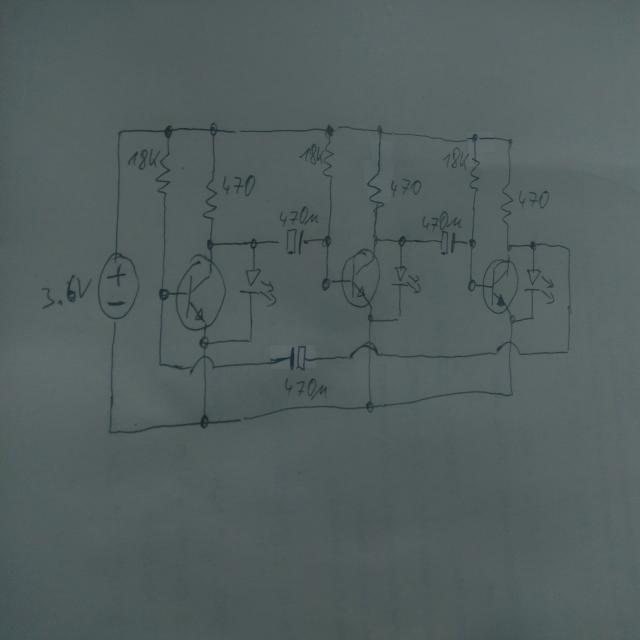capacitor: (285, 228, 304, 256), (289, 345, 306, 372), (439, 230, 456, 256)
crossover: (347, 339, 381, 361), (188, 353, 215, 374), (494, 339, 522, 358)
diode: (238, 268, 278, 308), (522, 268, 556, 305), (391, 265, 421, 295)
junction: (157, 286, 170, 301), (198, 334, 210, 350), (208, 121, 219, 137), (364, 400, 376, 414), (163, 124, 174, 139), (324, 123, 335, 138), (321, 276, 331, 292), (321, 234, 332, 248), (199, 414, 209, 429), (467, 277, 476, 292), (249, 236, 258, 250), (396, 235, 406, 247), (371, 233, 380, 246), (206, 238, 214, 251), (375, 124, 384, 135), (246, 334, 255, 345), (507, 388, 516, 399), (508, 314, 517, 325), (506, 137, 514, 148), (529, 240, 537, 251), (564, 242, 572, 253), (116, 128, 124, 138), (471, 133, 479, 143), (468, 238, 476, 248), (107, 426, 115, 436), (156, 358, 164, 368), (367, 313, 374, 323), (396, 314, 403, 323), (506, 242, 512, 252), (564, 346, 570, 356), (530, 314, 534, 322)
resistor: (154, 150, 172, 200), (366, 169, 385, 213), (201, 178, 218, 223), (500, 180, 514, 228), (322, 139, 335, 180), (469, 155, 480, 194)
source: (96, 251, 140, 321)
text: (40, 272, 92, 312), (283, 375, 327, 401), (278, 204, 320, 228), (421, 209, 463, 233), (221, 173, 257, 197), (390, 176, 422, 200), (442, 146, 471, 172), (128, 148, 162, 170), (518, 188, 550, 210), (298, 143, 325, 166)
transistor: (174, 253, 228, 332), (340, 247, 381, 309), (481, 257, 520, 315)
